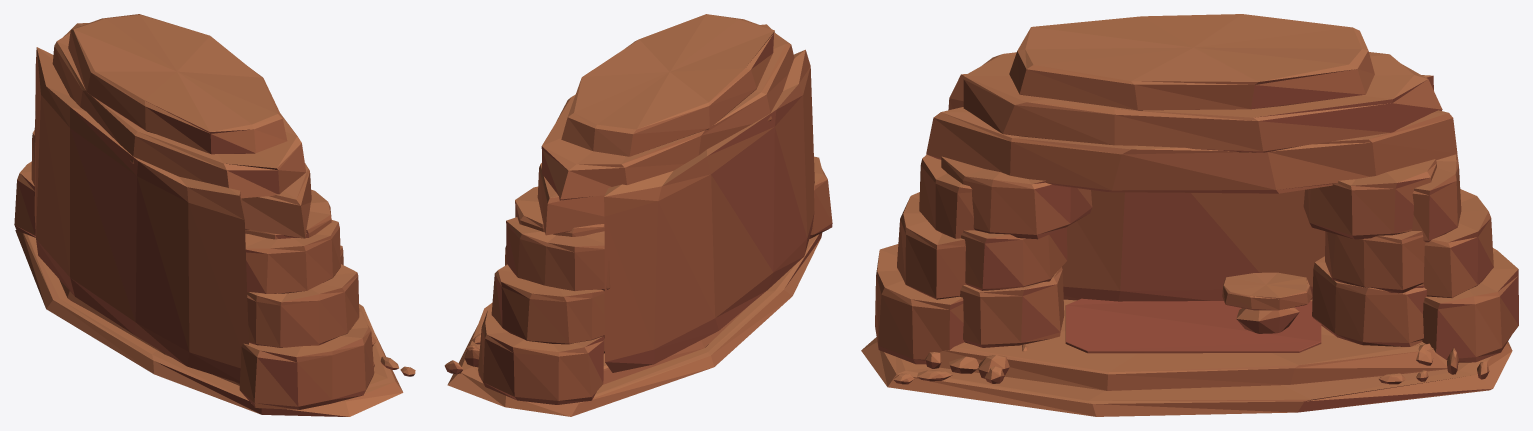
Rendered from mesa-cliff-overhang.glb.
3 renders of one model, left to right at view 1: azimuth 30°, elevation 25°; view 2: azimuth 150°, elevation 25°; view 3: azimuth 270°, elevation 25°, orthographic. The views are drawn at different scales.
Visible parts, largest first — view 1: Recessed fractured back wall, Flat chipped crown, Upper stepped shelf, Chipped apron, Left lower outer buttress, Left middle outer buttress, Left high outer buttress, Overhanging broad lintel, Right lower outer buttress, Left inner arch shoulder, Broad shelter terrace; view 2: Recessed fractured back wall, Flat chipped crown, Upper stepped shelf, Chipped apron, Right lower outer buttress, Right middle outer buttress, Right high outer buttress, Overhanging broad lintel, Right inner arch shoulder, Left lower outer buttress, Broad shelter terrace; view 3: Flat chipped crown, Recessed fractured back wall, Overhanging broad lintel, Upper stepped shelf, Chipped apron, Broad shelter terrace, Shelter floor, Left inner arch shoulder, Right lower outer buttress, Right inner arch shoulder, Left lower outer buttress, Right inner basal slab (+9 smaller).
Part boxes in pixels (x1=…): Recessed fractured back wall: x1=34, y1=47, x2=248, y2=382; Flat chipped crown: x1=68, y1=14, x2=287, y2=154; Upper stepped shelf: x1=52, y1=23, x2=305, y2=198; Chipped apron: x1=15, y1=230, x2=403, y2=416; Left lower outer buttress: x1=239, y1=312, x2=374, y2=409; Left middle outer buttress: x1=247, y1=264, x2=359, y2=347; Left high outer buttress: x1=245, y1=220, x2=340, y2=293; Overhanging broad lintel: x1=242, y1=163, x2=311, y2=238; Right lower outer buttress: x1=14, y1=161, x2=35, y2=237; Left inner arch shoulder: x1=245, y1=189, x2=331, y2=239; Broad shelter terrace: x1=59, y1=279, x2=239, y2=385; Recessed fractured back wall: x1=604, y1=49, x2=814, y2=372; Flat chipped crown: x1=561, y1=14, x2=774, y2=156; Upper stepped shelf: x1=541, y1=24, x2=794, y2=200; Chipped apron: x1=447, y1=233, x2=822, y2=416; Right lower outer buttress: x1=478, y1=309, x2=604, y2=404; Right middle outer buttress: x1=491, y1=264, x2=604, y2=344; Right high outer buttress: x1=506, y1=217, x2=610, y2=290; Overhanging broad lintel: x1=537, y1=163, x2=604, y2=235; Right inner arch shoulder: x1=515, y1=186, x2=604, y2=236; Left lower outer buttress: x1=809, y1=156, x2=832, y2=238; Broad shelter terrace: x1=603, y1=306, x2=748, y2=384; Flat chipped crown: x1=1009, y1=14, x2=1374, y2=110; Recessed fractured back wall: x1=948, y1=74, x2=1433, y2=301; Overhanging broad lintel: x1=926, y1=107, x2=1457, y2=193; Upper stepped shelf: x1=963, y1=52, x2=1442, y2=152; Chipped apron: x1=861, y1=337, x2=1512, y2=416; Broad shelter terrace: x1=939, y1=299, x2=1447, y2=390; Shelter floor: x1=1065, y1=298, x2=1321, y2=353; Left inner arch shoulder: x1=941, y1=156, x2=1092, y2=239; Right lower outer buttress: x1=1422, y1=248, x2=1518, y2=362; Right inner arch shoulder: x1=1303, y1=159, x2=1436, y2=239; Left lower outer buttress: x1=875, y1=244, x2=964, y2=364; Right inner basal slab: x1=1312, y1=256, x2=1426, y2=346.
Bounding box in the file's own units: 5.4 × 5.47 × 11.32.
